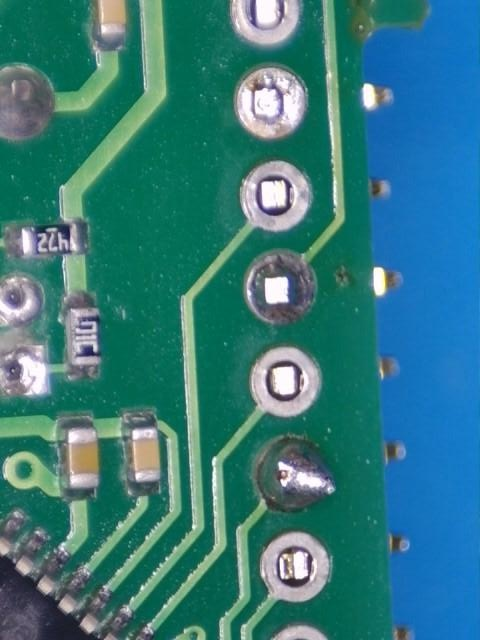pcb_defect: (259, 439, 336, 509), (246, 253, 315, 323), (237, 68, 306, 137)
